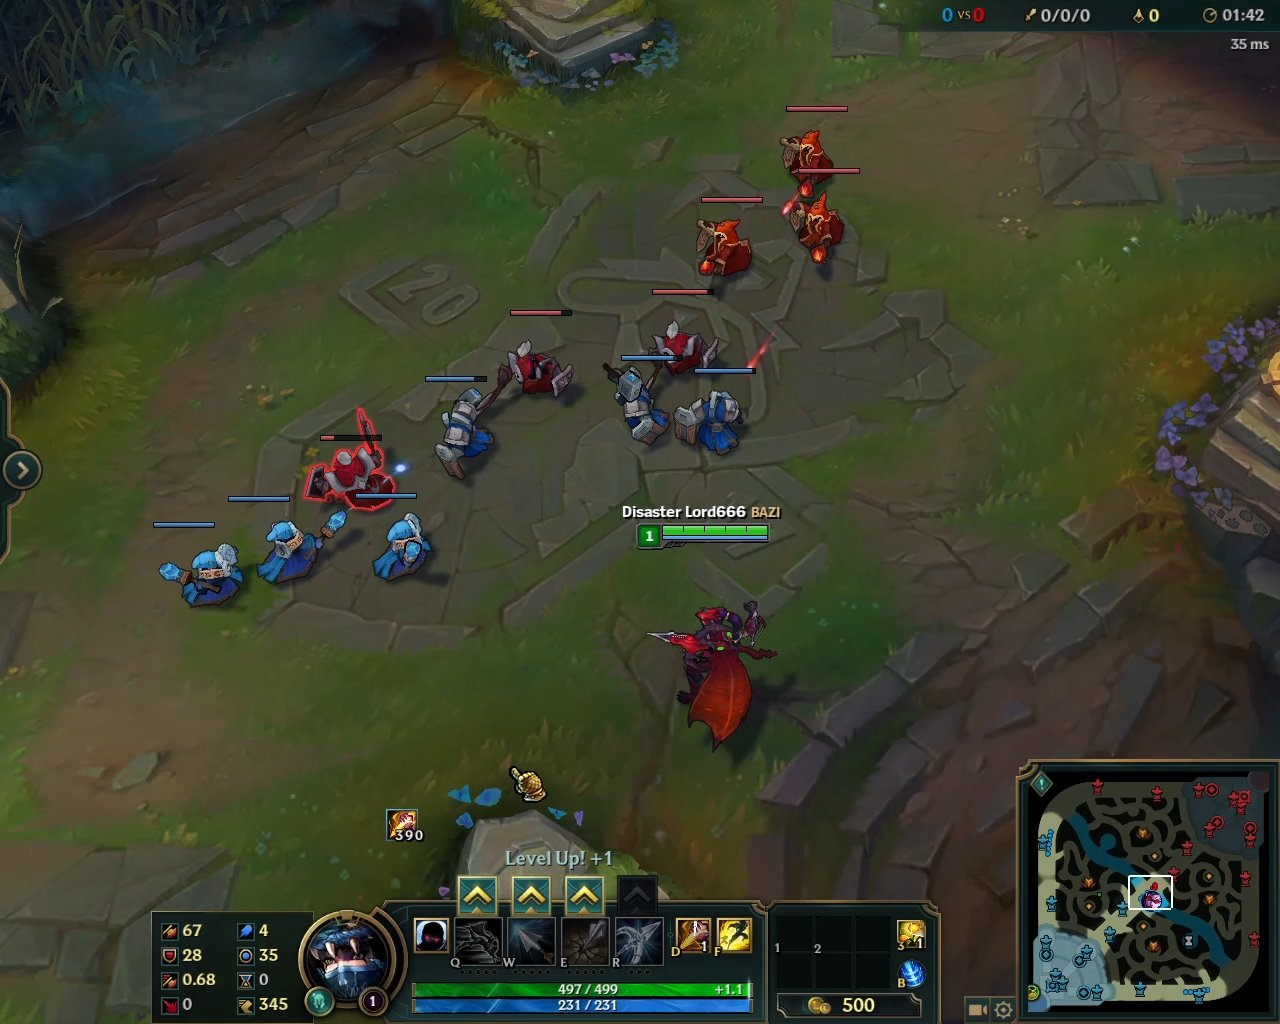EnemyMinion: (476, 309, 578, 416), (302, 408, 396, 516), (781, 168, 861, 270), (645, 288, 720, 392), (776, 104, 847, 209), (697, 197, 759, 279)
Vayne: (642, 596, 781, 757)
